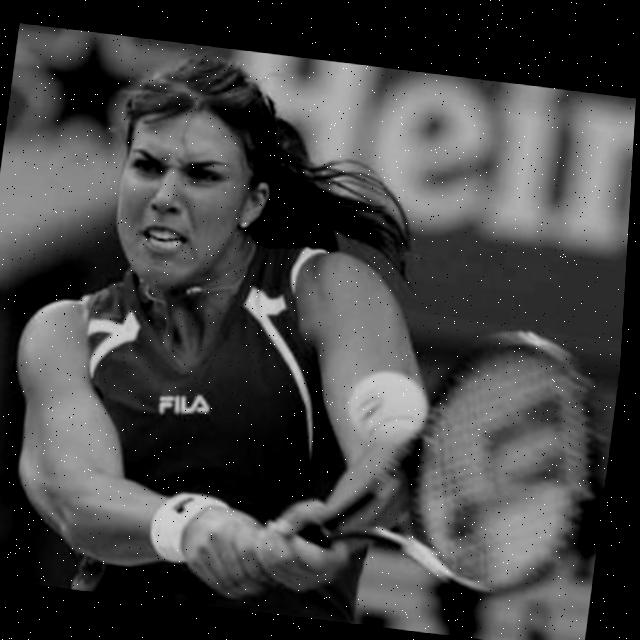face: (112, 101, 275, 311)
